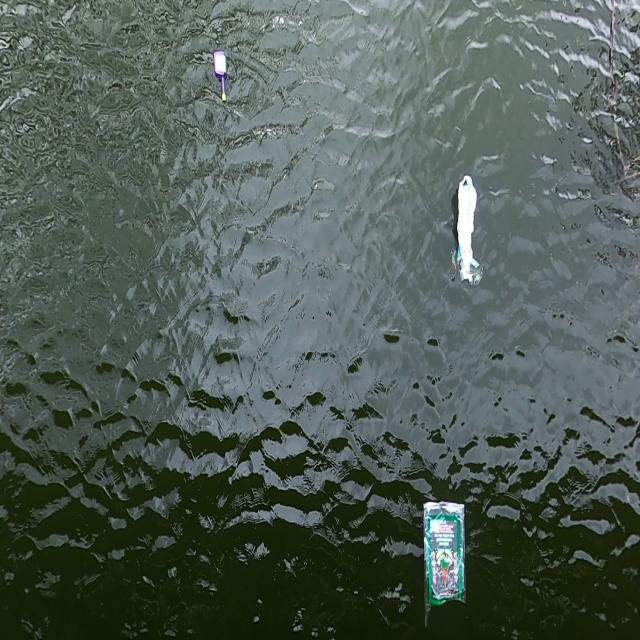Bouteille plastique: (209, 46, 232, 106)
Sac plastique: (414, 488, 474, 629), (446, 170, 491, 293)
